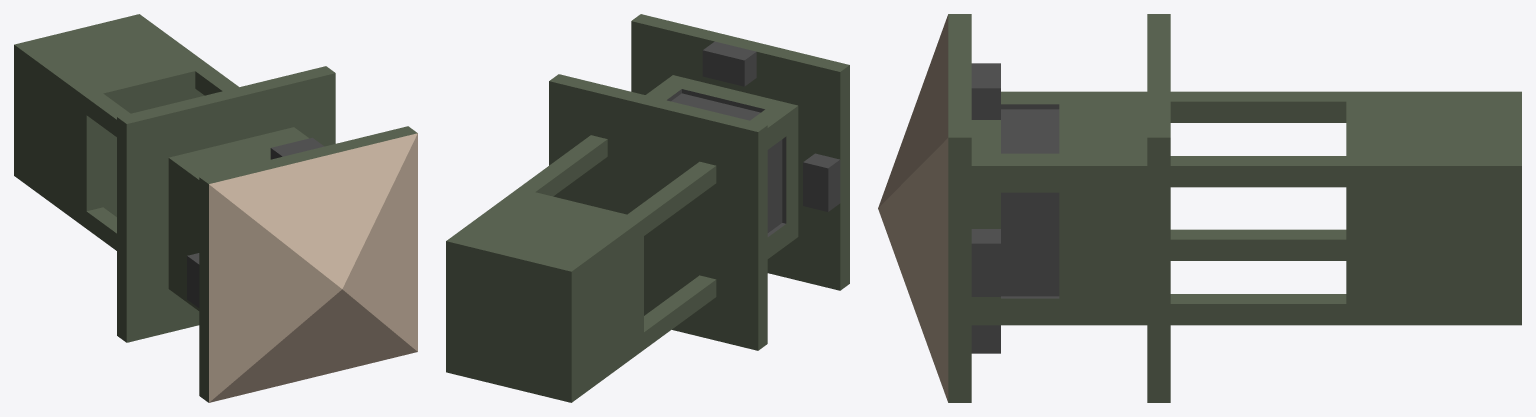
File: tower.dae
The picture shows the model from 3 angles, left to right: view 1: azimuth 30°, elevation 25°; view 2: azimuth 150°, elevation 25°; view 3: azimuth 270°, elevation 25°; orthographic projection. The views are drawn at different scales.
Visible parts, largest first — view 1: coords_ME_ID61_MA_Color_C10, coords_ME_ID43_MA_Color_F20, coords_ME_ID75_MA_Color_F20, coords_ME_ID25_MA_Color_F20, coords_ME_ID3_MA_Color_F20, coords_ME_ID31_MA_material, coords_ME_ID69_MA_material; view 2: coords_ME_ID43_MA_Color_F20, coords_ME_ID75_MA_Color_F20, coords_ME_ID3_MA_Color_F20, coords_ME_ID25_MA_Color_F20, coords_ME_ID31_MA_material, coords_ME_ID69_MA_material, coords_ME_ID11_MA_material, coords_ME_ID55_MA_material; view 3: coords_ME_ID43_MA_Color_F20, coords_ME_ID25_MA_Color_F20, coords_ME_ID61_MA_Color_C10, coords_ME_ID75_MA_Color_F20, coords_ME_ID3_MA_Color_F20, coords_ME_ID37_MA_material, coords_ME_ID55_MA_material, coords_ME_ID81_MA_material, coords_ME_ID69_MA_material, coords_ME_ID49_MA_material.
Boxes of the visible parts, x1,y1,x2,y2 form: coords_ME_ID61_MA_Color_C10: (209, 133, 417, 402); coords_ME_ID43_MA_Color_F20: (14, 14, 238, 250); coords_ME_ID75_MA_Color_F20: (117, 66, 335, 342); coords_ME_ID25_MA_Color_F20: (168, 127, 308, 310); coords_ME_ID3_MA_Color_F20: (199, 126, 417, 402); coords_ME_ID31_MA_material: (187, 253, 199, 307); coords_ME_ID69_MA_material: (270, 137, 324, 159); coords_ME_ID43_MA_Color_F20: (446, 135, 716, 402); coords_ME_ID75_MA_Color_F20: (549, 74, 767, 350); coords_ME_ID3_MA_Color_F20: (631, 14, 849, 290); coords_ME_ID25_MA_Color_F20: (645, 75, 798, 258); coords_ME_ID31_MA_material: (803, 153, 840, 211); coords_ME_ID69_MA_material: (702, 41, 756, 86); coords_ME_ID11_MA_material: (767, 136, 786, 236); coords_ME_ID55_MA_material: (667, 89, 764, 120); coords_ME_ID43_MA_Color_F20: (1170, 91, 1521, 325); coords_ME_ID25_MA_Color_F20: (971, 91, 1147, 325); coords_ME_ID61_MA_Color_C10: (878, 14, 948, 402); coords_ME_ID75_MA_Color_F20: (1147, 14, 1170, 402); coords_ME_ID3_MA_Color_F20: (948, 14, 971, 402); coords_ME_ID37_MA_material: (1001, 192, 1059, 298); coords_ME_ID55_MA_material: (1001, 104, 1059, 153); coords_ME_ID81_MA_material: (971, 229, 1000, 296); coords_ME_ID69_MA_material: (971, 63, 1000, 119); coords_ME_ID49_MA_material: (971, 325, 1000, 353).
Size of the model in its own units: 78.74 by 78.74 by 173.
